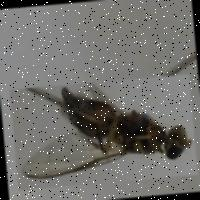Oriental-fruit-fly: (8, 74, 196, 190)
